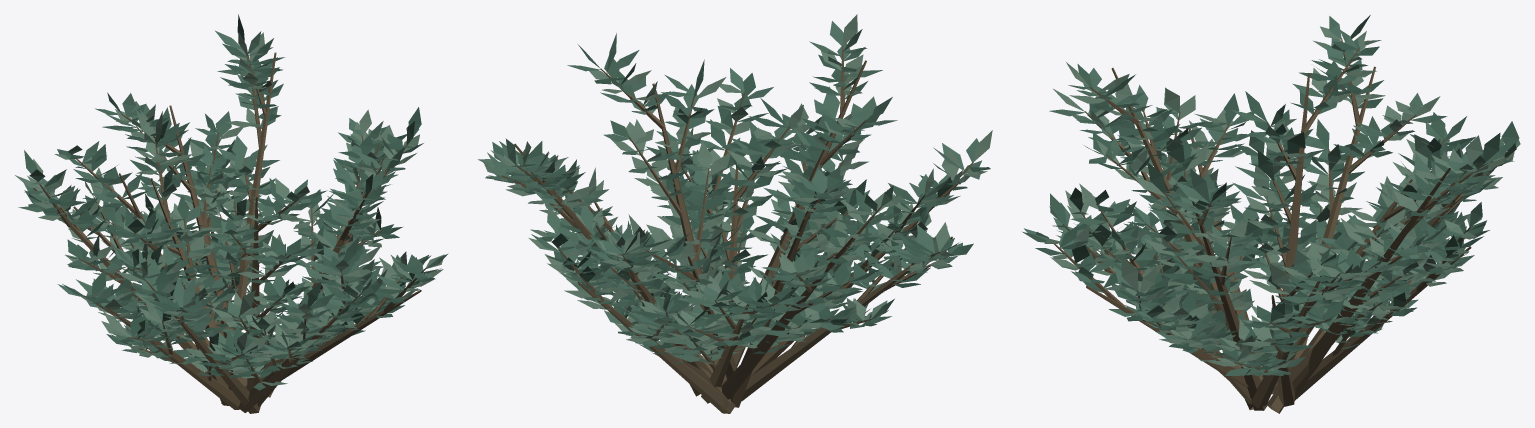
File: bush_13.glb
3 views of the same model, side by side, from view 1: azimuth 30°, elevation 25°; view 2: azimuth 150°, elevation 25°; view 3: azimuth 270°, elevation 25° (orthographic). The views are drawn at different scales.
Visible parts, largest first — view 1: bush_13; view 2: bush_13; view 3: bush_13.
Boxes of the visible parts, box(x1,y1,x2,y2) form: bush_13: box(15, 14, 448, 413); bush_13: box(478, 14, 992, 413); bush_13: box(1022, 15, 1520, 413).
Size of the model in its own units: 1.77 by 1.3 by 1.77.
